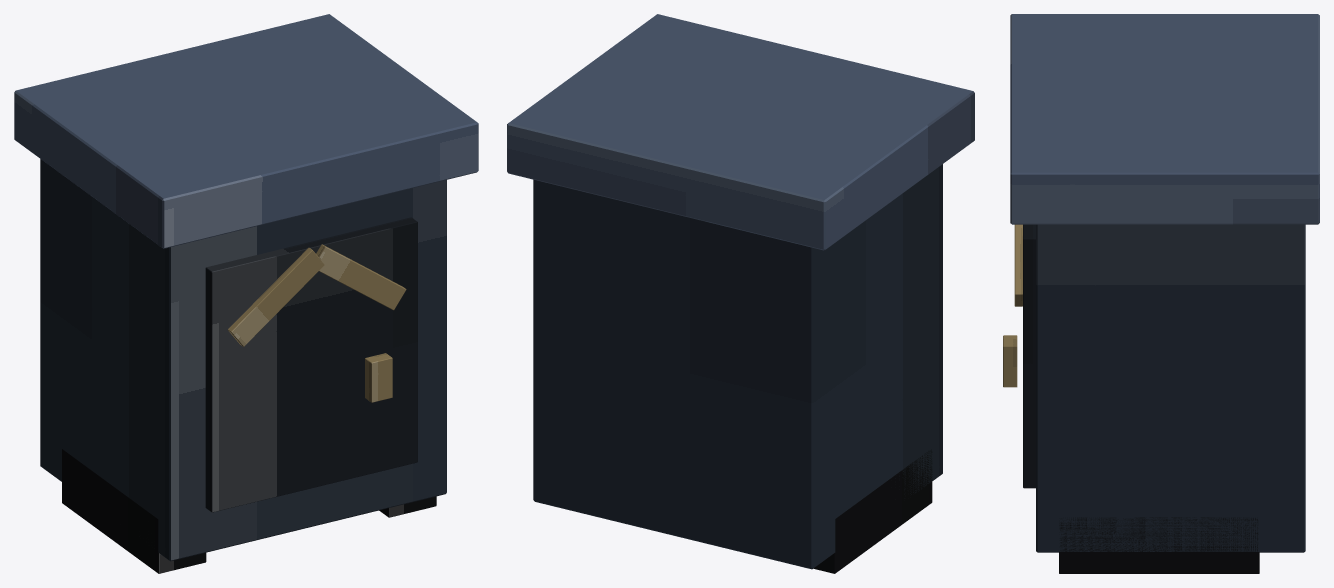
Rendered from gothic_nightstand_midnight.glb.
3 views of the same model, side by side, from view 1: azimuth 30°, elevation 25°; view 2: azimuth 150°, elevation 25°; view 3: azimuth 270°, elevation 25° (orthographic). The views are drawn at different scales.
Visible parts, largest first — view 1: NightstandBody, NightstandTop, PointedDoor, ClawFoot-0.24, DoorArchLeft, DoorArchRight, DoorPull; view 2: NightstandBody, NightstandTop, ClawFoot-0.24; view 3: NightstandBody, NightstandTop, ClawFoot0.24, PointedDoor, DoorPull, DoorArchRight.
Part boxes in pixels (bbox=[...]): NightstandBody: bbox=[40, 159, 446, 561]; NightstandTop: bbox=[14, 14, 478, 248]; PointedDoor: bbox=[205, 217, 417, 512]; ClawFoot-0.24: bbox=[62, 449, 206, 573]; DoorArchLeft: bbox=[228, 247, 324, 346]; DoorArchRight: bbox=[316, 244, 406, 310]; DoorPull: bbox=[365, 353, 392, 402]; NightstandBody: bbox=[533, 164, 942, 569]; NightstandTop: bbox=[507, 14, 974, 250]; ClawFoot-0.24: bbox=[813, 449, 932, 573]; NightstandBody: bbox=[1036, 224, 1305, 552]; NightstandTop: bbox=[1010, 14, 1319, 224]; ClawFoot0.24: bbox=[1059, 517, 1259, 573]; PointedDoor: bbox=[1023, 224, 1035, 488]; DoorPull: bbox=[1003, 335, 1017, 387]; DoorArchRight: bbox=[1014, 224, 1022, 306].
Bounding box in the file's own units: 0.66 × 0.79 × 0.5525.
1 material, 1 textured.
